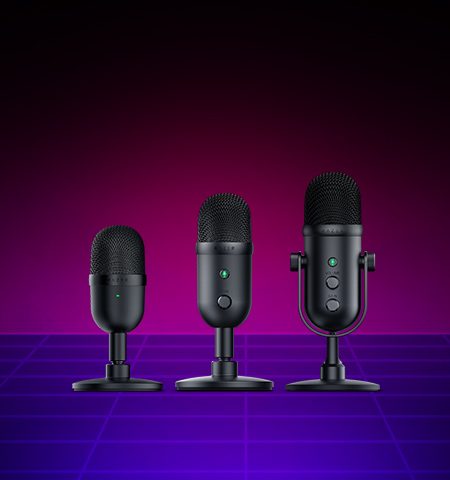microphone: (282, 170, 385, 395), (173, 190, 277, 394), (67, 220, 166, 393)
